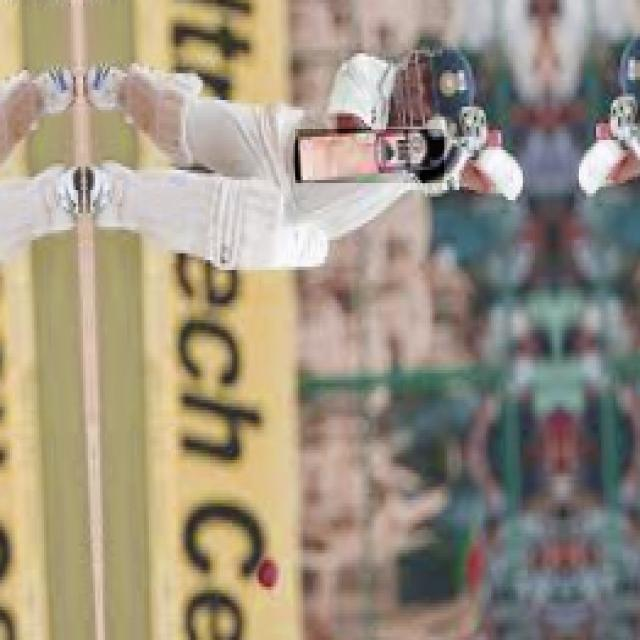bat: (292, 125, 439, 186)
toe: (291, 140, 304, 185)
